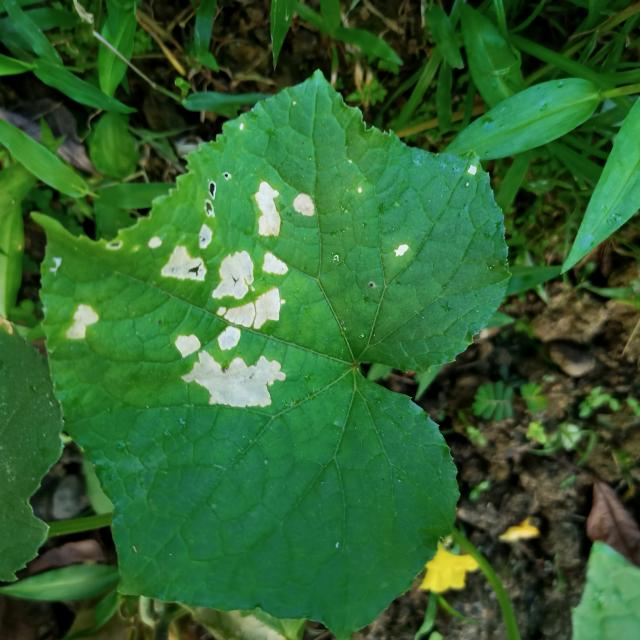disease_cucumber: (155, 164, 322, 412), (58, 287, 105, 349), (383, 235, 418, 265)
